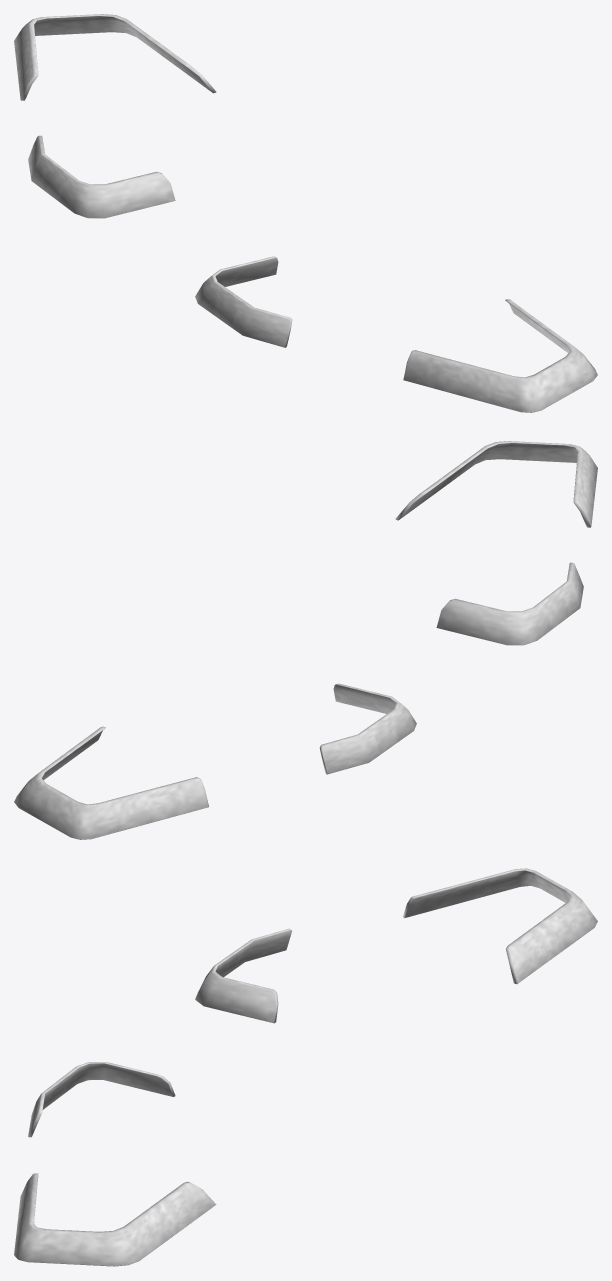
Rendered from pref_sm_beach_winter_techobstacle03_glass02_lv2.fbx.
The picture shows the model from 3 angles, top to bottom: view 1: azimuth 30°, elevation 25°; view 2: azimuth 150°, elevation 25°; view 3: azimuth 330°, elevation 25°; orthographic projection.
Parts seen in each view (by area): view 1: pref_sm_beach_winter_techobstacle03_glass02_lv2; view 2: pref_sm_beach_winter_techobstacle03_glass02_lv2; view 3: pref_sm_beach_winter_techobstacle03_glass02_lv2.
Boxes of the visible parts, x1,y1,x2,y2 form: pref_sm_beach_winter_techobstacle03_glass02_lv2: (14, 14, 597, 412); pref_sm_beach_winter_techobstacle03_glass02_lv2: (14, 441, 597, 839); pref_sm_beach_winter_techobstacle03_glass02_lv2: (14, 868, 597, 1266).
Bounding box in the file's own units: 9.8 × 1.01 × 37.69.
